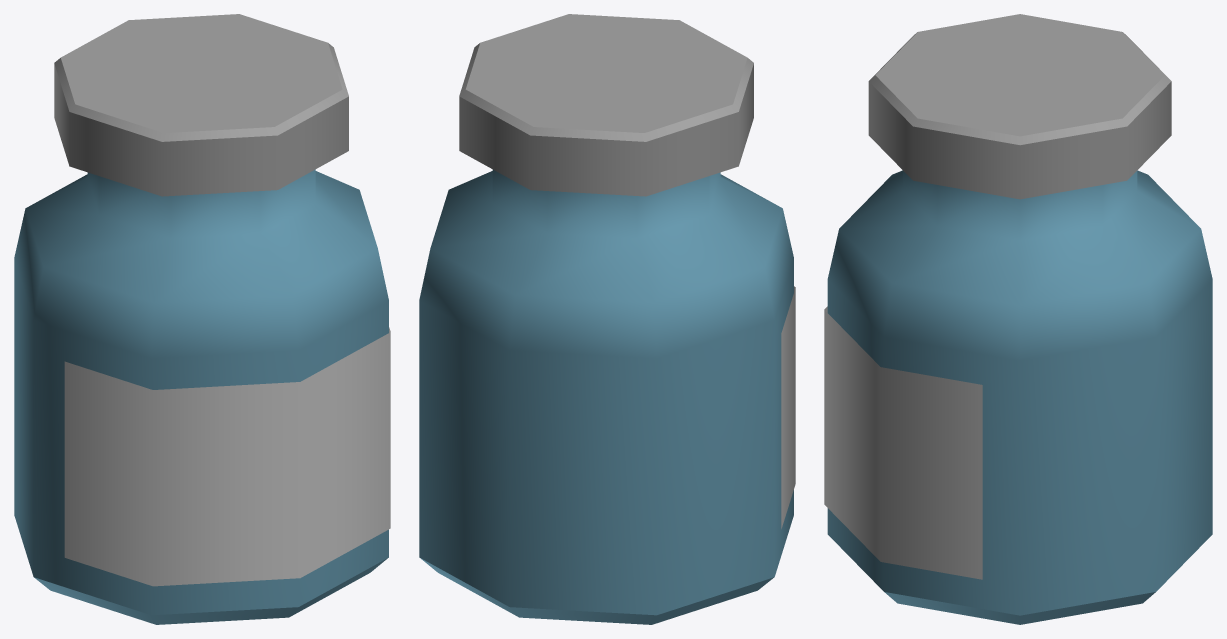
File: Pill Bottle 03.fbx
3 views of the same model, side by side, from view 1: azimuth 30°, elevation 25°; view 2: azimuth 150°, elevation 25°; view 3: azimuth 270°, elevation 25° (orthographic).
Visible parts, largest first — view 1: Pill_Bottle_03; view 2: Pill_Bottle_03; view 3: Pill_Bottle_03.
Boxes of the visible parts, box(x1,y1,x2,y2) form: Pill_Bottle_03: box(14, 14, 390, 624); Pill_Bottle_03: box(419, 14, 795, 624); Pill_Bottle_03: box(824, 14, 1212, 624).
Size of the model in its own units: 17.35 by 23.68 by 17.5.
